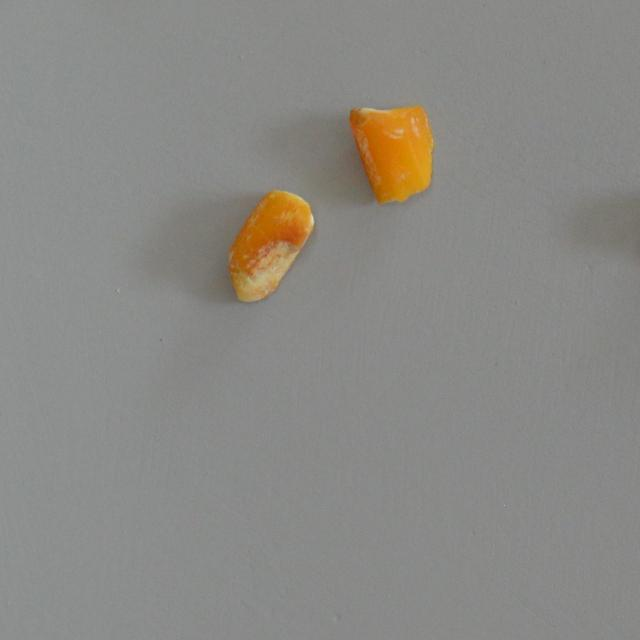dañado: (224, 187, 314, 304), (346, 102, 438, 207)
